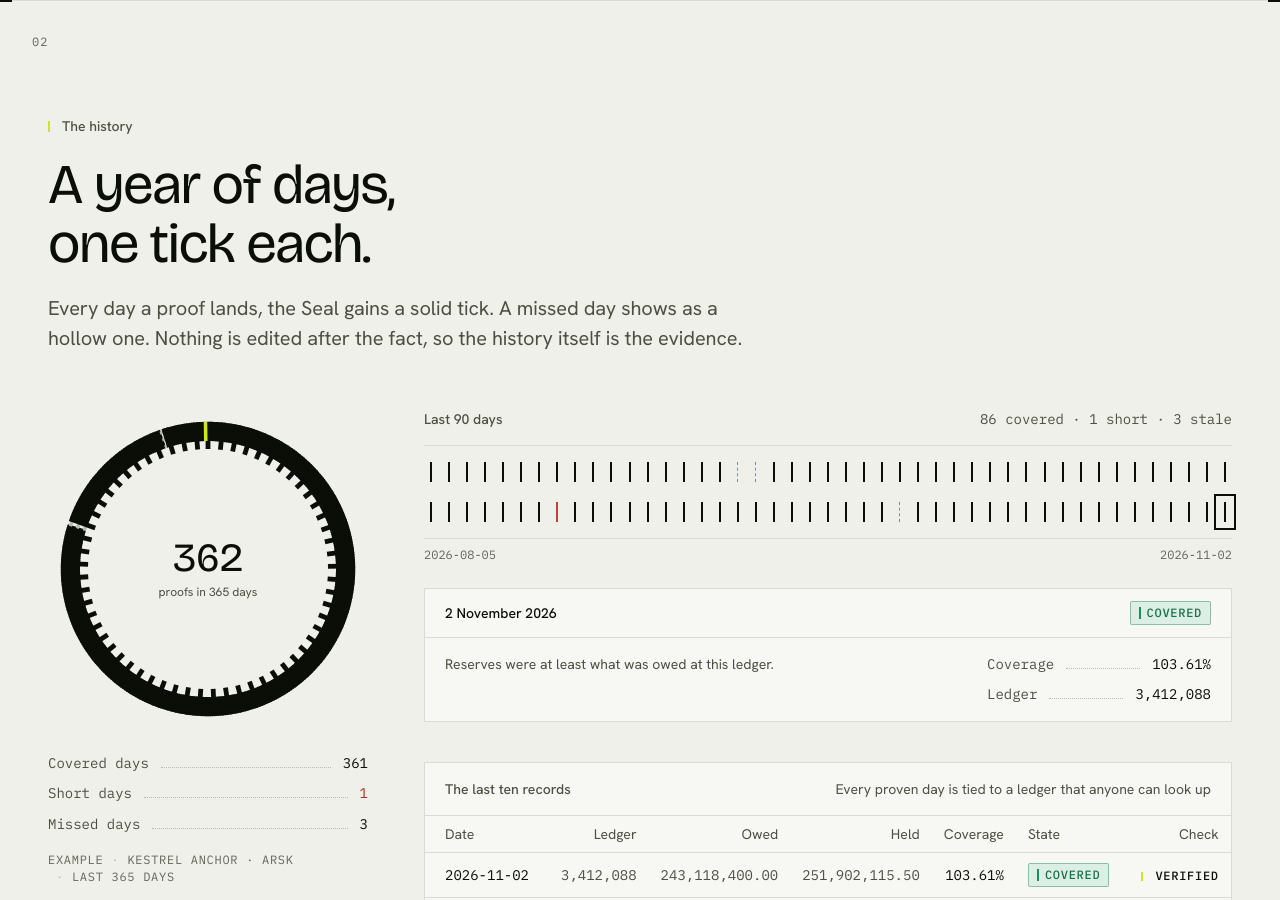
Scenario: RecordHistory › shows the gap on the short day
What coordinates should you click on to do the following:
click the button named "26 September 2026, Short"
I would click on:
 (557, 512)
Its box is [550,498,564,526].
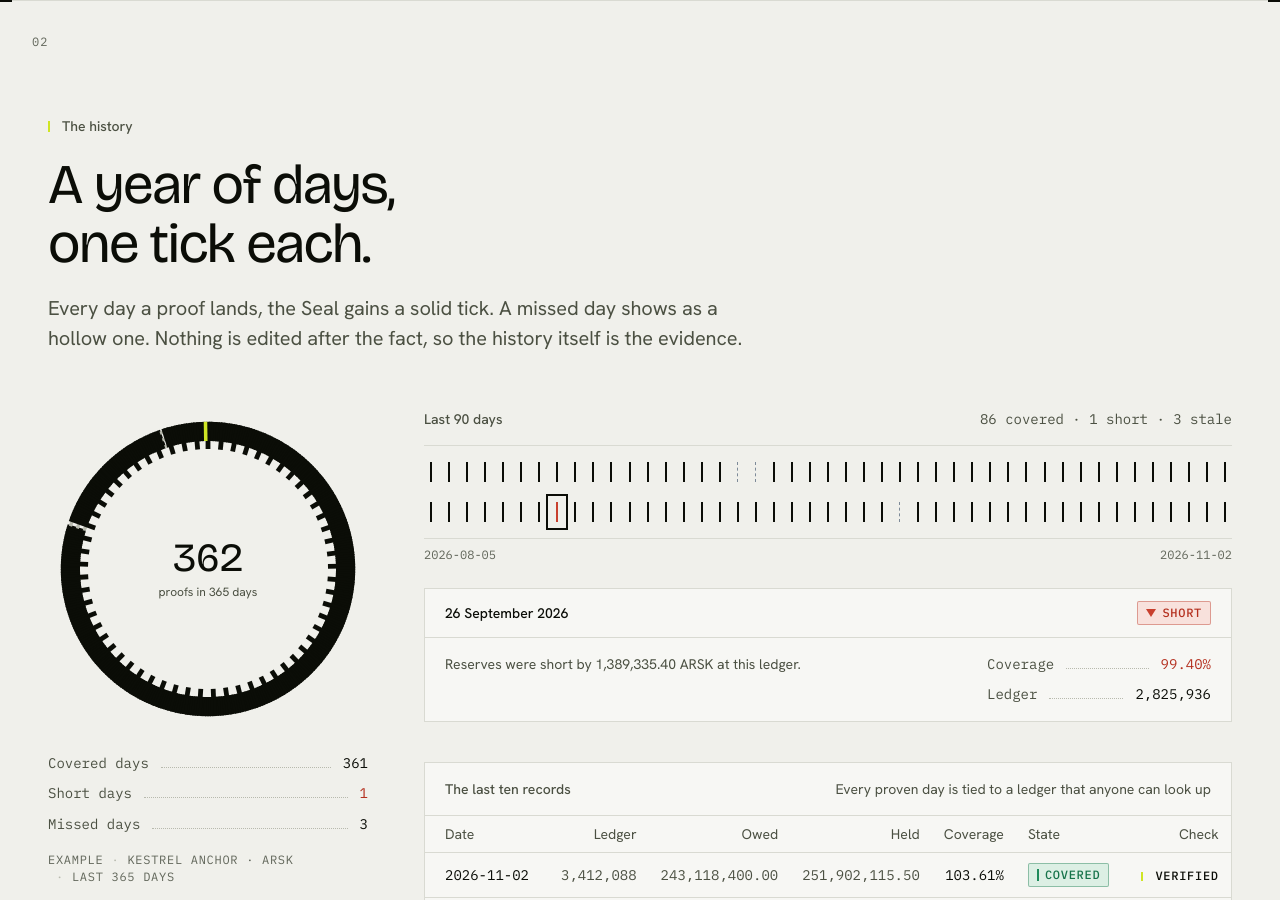
Check: the text "Reserves were short by 1,389,335.40 ARSK at this ledger." is shown, box [445,655,801,673]
Check: the text "99.40%" is shown, box [1161,654,1211,674]
